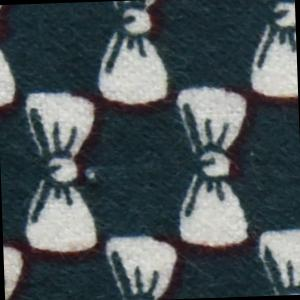Stain: (83, 166, 106, 186)
